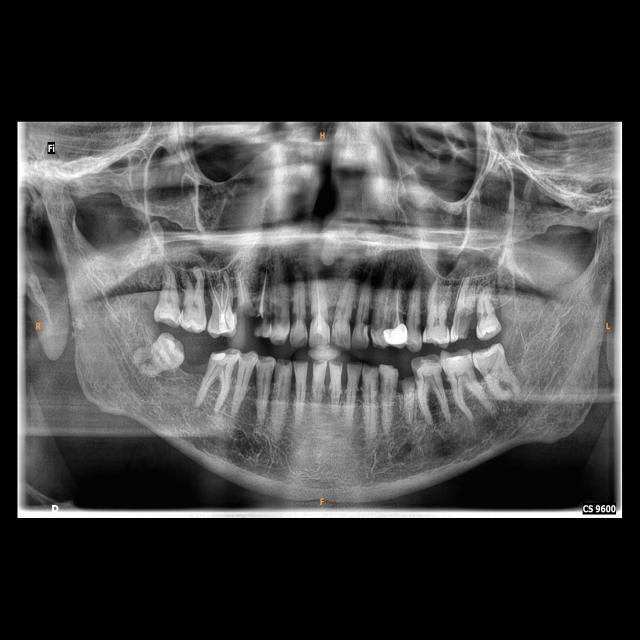dentin-curugu: (459, 306, 476, 338), (255, 312, 270, 339), (271, 302, 284, 329), (412, 357, 424, 378), (373, 308, 383, 333), (291, 306, 299, 332), (361, 308, 369, 329), (415, 318, 422, 335)
dolgu: (210, 309, 236, 336), (208, 349, 228, 366)
kanal-tedavisi: (206, 278, 233, 310), (311, 272, 325, 327), (255, 271, 267, 315), (392, 291, 402, 323)
kaplama: (383, 324, 410, 348)
